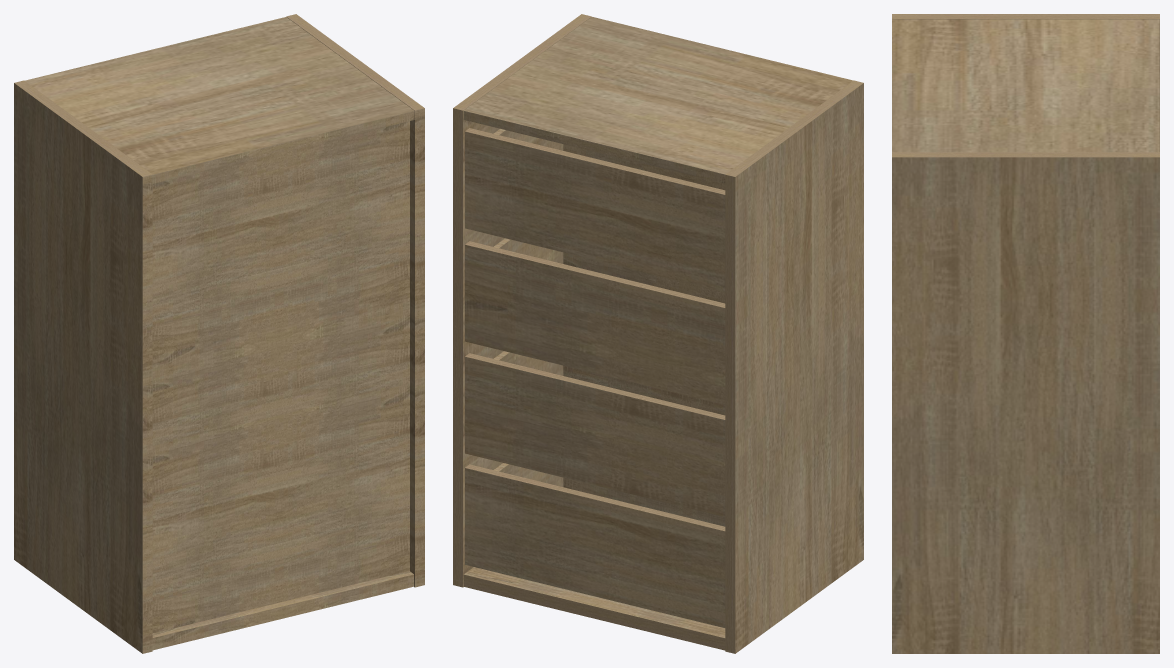
3 views of the same model, side by side, from view 1: azimuth 30°, elevation 25°; view 2: azimuth 150°, elevation 25°; view 3: azimuth 270°, elevation 25° (orthographic). The views are drawn at different scales.
Visible parts, largest first — view 1: Bundle_6_04145-Oak, Bundle_6_04145-Oak_Edging; view 2: Bundle_6_04145-Oak, Bundle_6_04145-Oak_Edging; view 3: Bundle_6_04145-Oak, Bundle_6_04145-Oak_Edging.
Part boxes in pixels (x1,y1,x2,y2): Bundle_6_04145-Oak: (14,17,424,653); Bundle_6_04145-Oak_Edging: (14,14,424,176); Bundle_6_04145-Oak: (463,16,863,653); Bundle_6_04145-Oak_Edging: (453,14,863,653); Bundle_6_04145-Oak: (892,19,1159,653); Bundle_6_04145-Oak_Edging: (892,14,1159,157).
Bounding box in the file's own units: 0.506 × 0.817 × 0.3996.
Materials: 2 (2 with a texture image).
